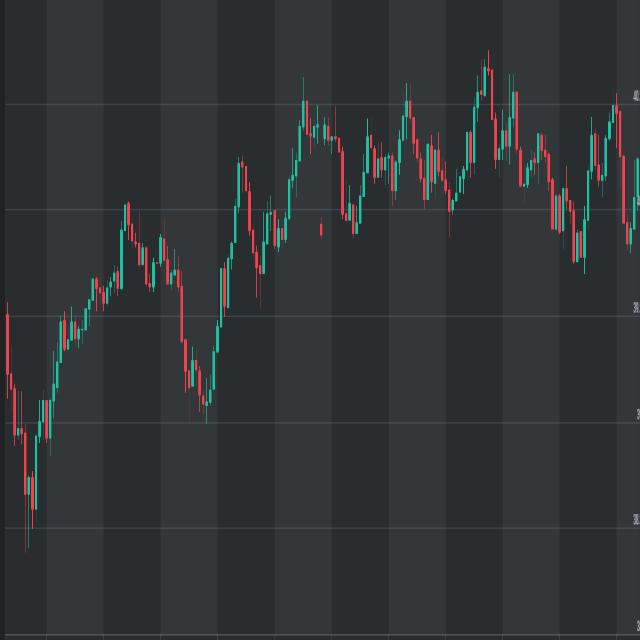Channel-down: (463, 15, 602, 301)
Channel-up: (17, 169, 131, 578)
Inverse-Head-Shoulders: (124, 100, 300, 426)
